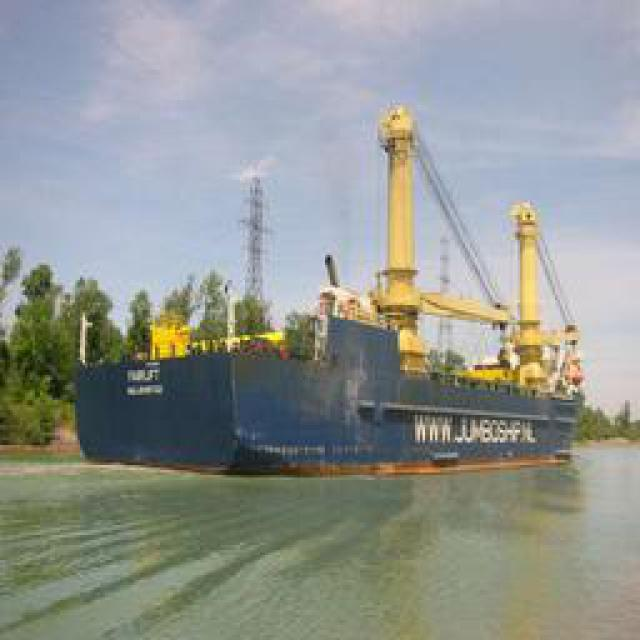Ship: (62, 111, 584, 491)
